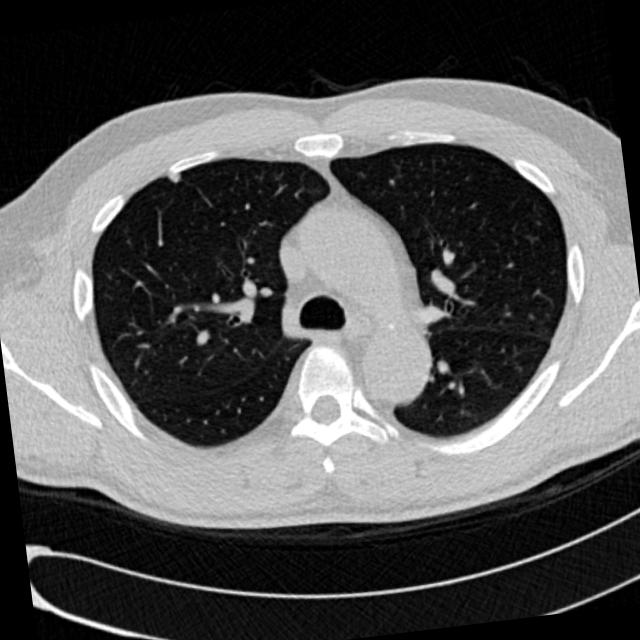nodule: (158, 162, 186, 190)
